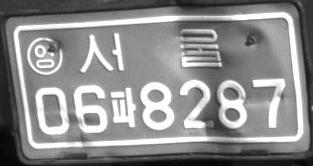0: (34, 86, 70, 136)
2: (178, 78, 214, 129)
6: (72, 83, 108, 133)
7: (251, 77, 286, 129)
8: (140, 80, 175, 131), (216, 78, 248, 130)
서울_D: (77, 27, 222, 73)
영: (26, 36, 62, 76)
파: (109, 87, 136, 128)
